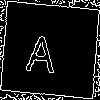A: (24, 25, 59, 74)
